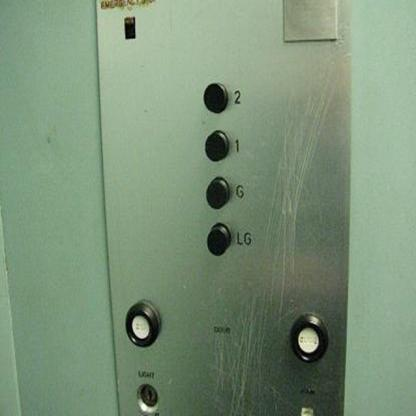empty: (200, 77, 230, 117), (204, 216, 232, 256), (205, 172, 231, 212), (202, 128, 230, 164)
keyhole: (134, 380, 161, 414)
text_blur: (289, 315, 329, 362), (125, 299, 163, 348)
